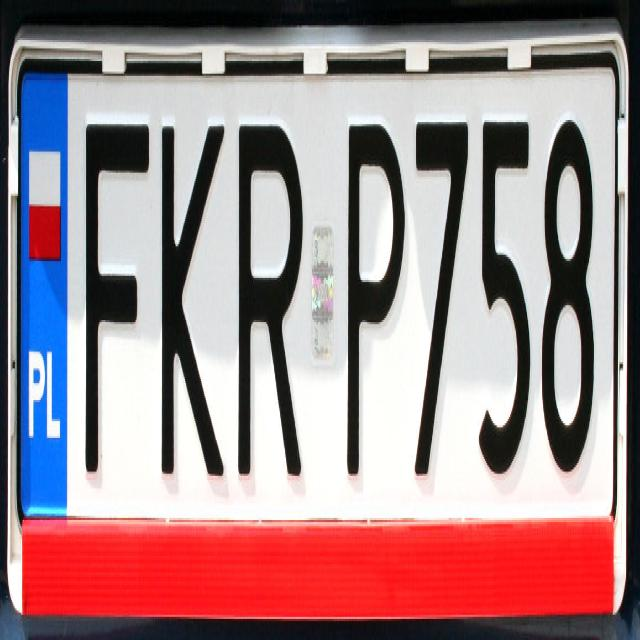pl_license_plate: (19, 67, 614, 514)
